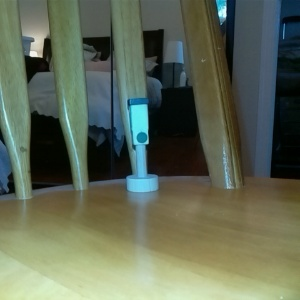traffic light green: (120, 94, 161, 194)
